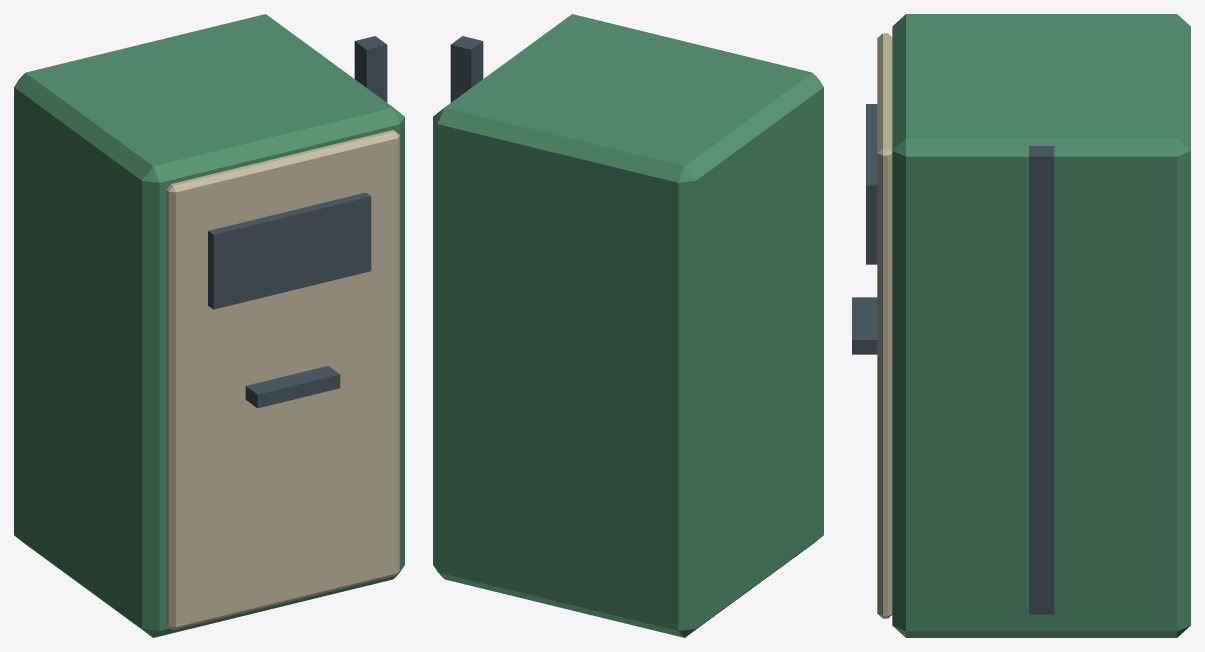
File: fuel_pump.glb
3 renders of one model, left to right at view 1: azimuth 30°, elevation 25°; view 2: azimuth 150°, elevation 25°; view 3: azimuth 270°, elevation 25°, orthographic. The views are drawn at different scales.
Parts seen in each view (by area): view 1: fuel_pump; view 2: fuel_pump; view 3: fuel_pump.
Boxes of the visible parts, box(x1,y1,x2,y2) form: fuel_pump: box(14, 14, 404, 637); fuel_pump: box(433, 14, 823, 637); fuel_pump: box(852, 14, 1190, 637).
Size of the model in its own units: 0.8075 by 1.22 by 0.7375.
